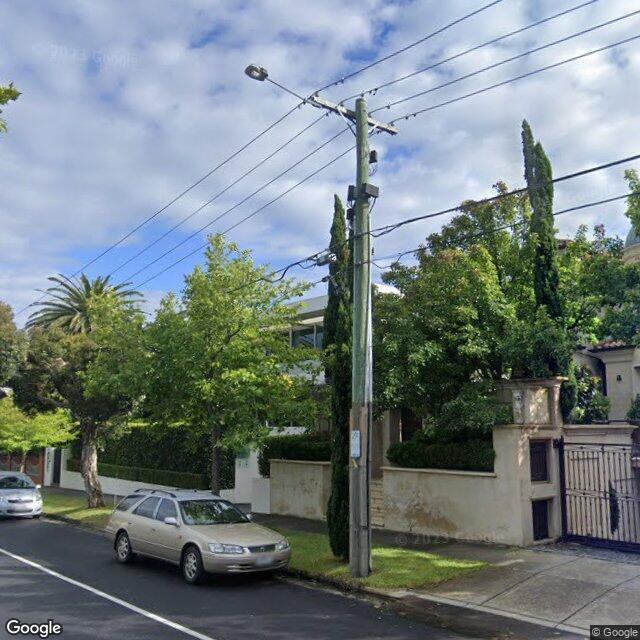crossarm: (298, 78, 417, 136)
streetlight: (244, 64, 306, 102)
timber-pole: (348, 98, 372, 577)
